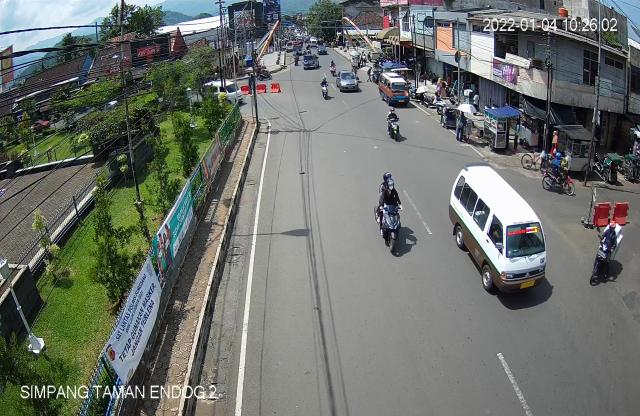Mobil: (444, 164, 553, 305), (373, 68, 412, 105)
Motor: (371, 168, 409, 260), (585, 214, 625, 291), (542, 149, 578, 196), (382, 106, 406, 146)
